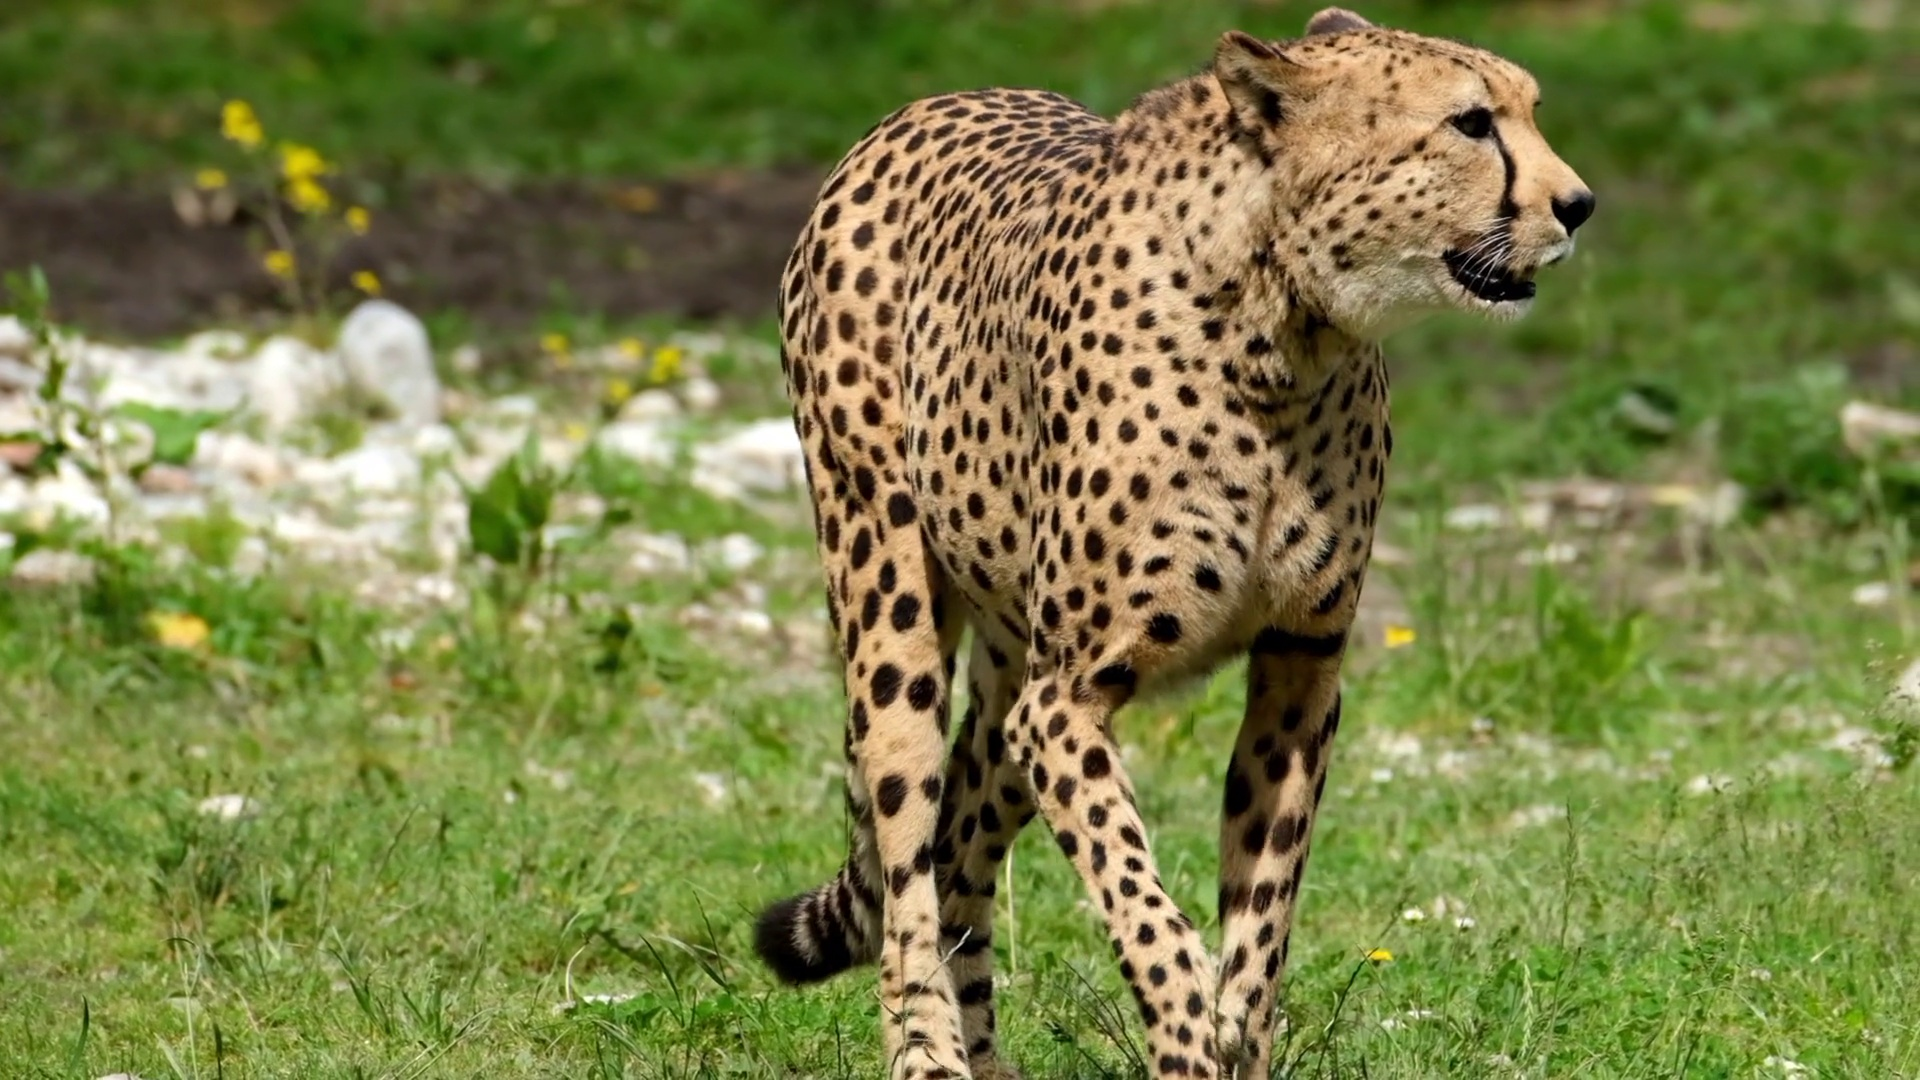Cheetah: (752, 5, 1600, 1080)
